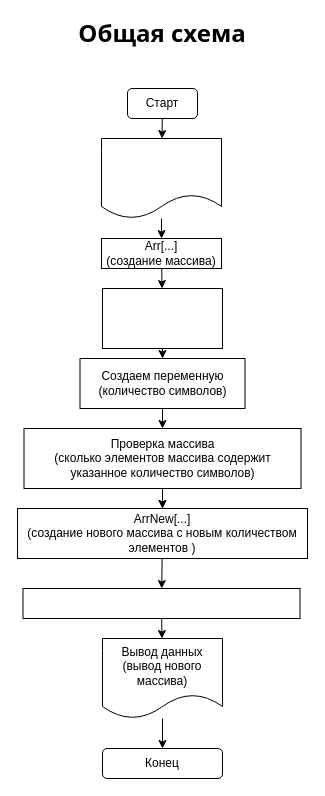
Image size: 325x796. Some labels were removed from this diagram. Here are the shapes that lost their labels. From the top down, the box of each, then its label:
(100, 138, 222, 218): Ввод данных (количество элементов массива)
(102, 288, 222, 348): Поочередное заполнение массива данными от пользователя
(22, 588, 300, 618): Заполнение нового массива
